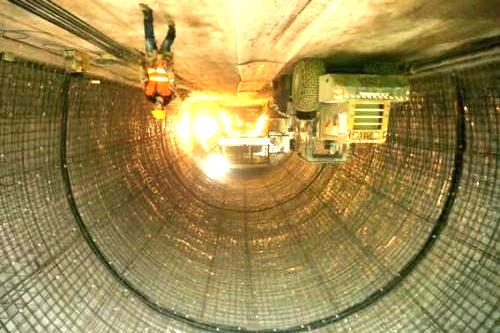helmet: (150, 100, 167, 120)
